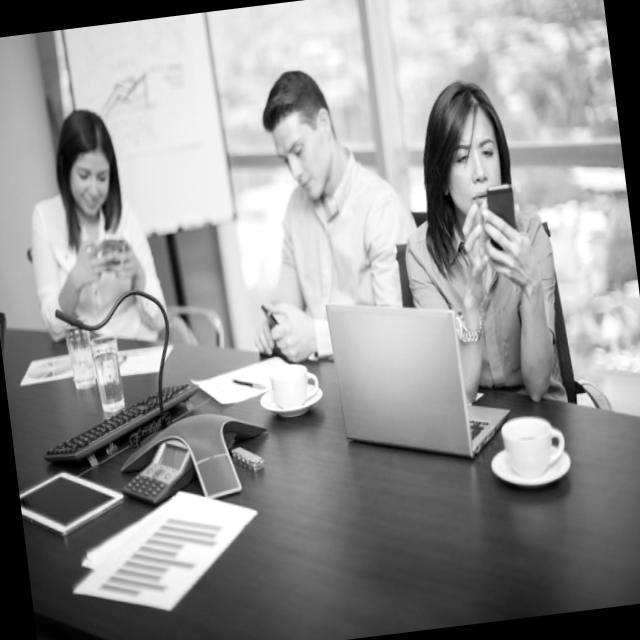phone: (483, 180, 520, 252), (101, 232, 127, 266), (261, 302, 280, 328)
